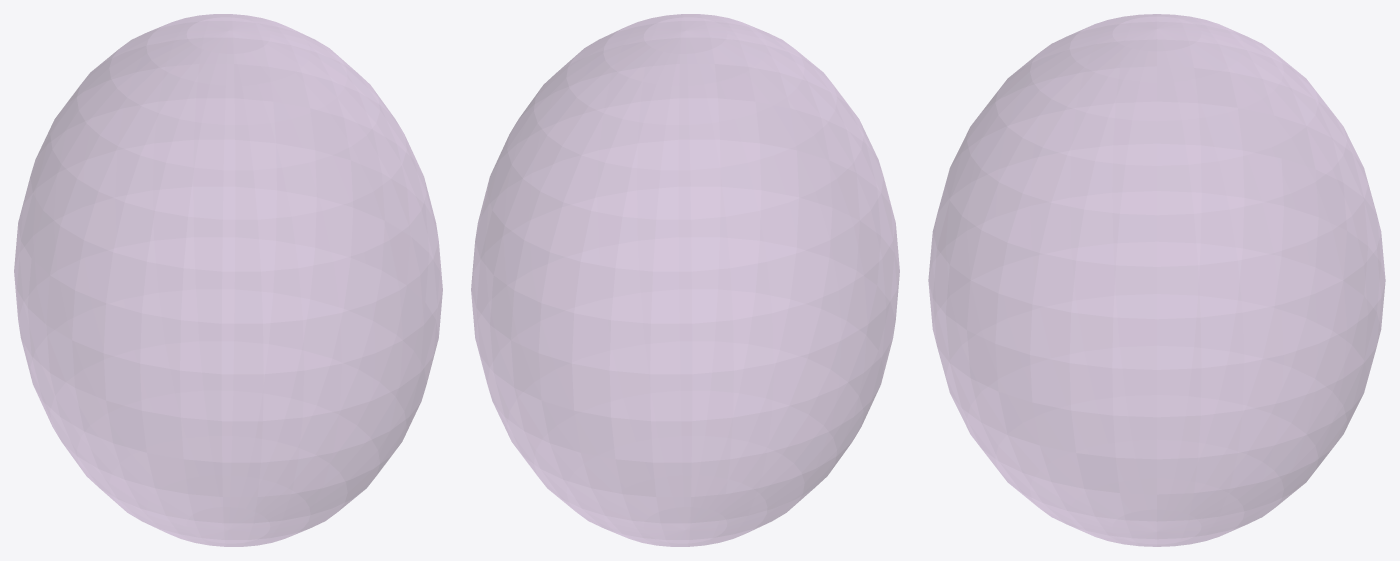
Rendered from ProjectileForSporeCanon.fbx.
The picture shows the model from 3 angles, left to right: view 1: azimuth 30°, elevation 25°; view 2: azimuth 150°, elevation 25°; view 3: azimuth 270°, elevation 25°; orthographic projection.
Visible parts, largest first — view 1: Sphere; view 2: Sphere; view 3: Sphere.
Part boxes in pixels (bbox=[...]): Sphere: bbox=[14, 14, 442, 546]; Sphere: bbox=[471, 14, 899, 546]; Sphere: bbox=[928, 14, 1385, 546].
Size of the model in its own units: 191 by 250 by 206.
